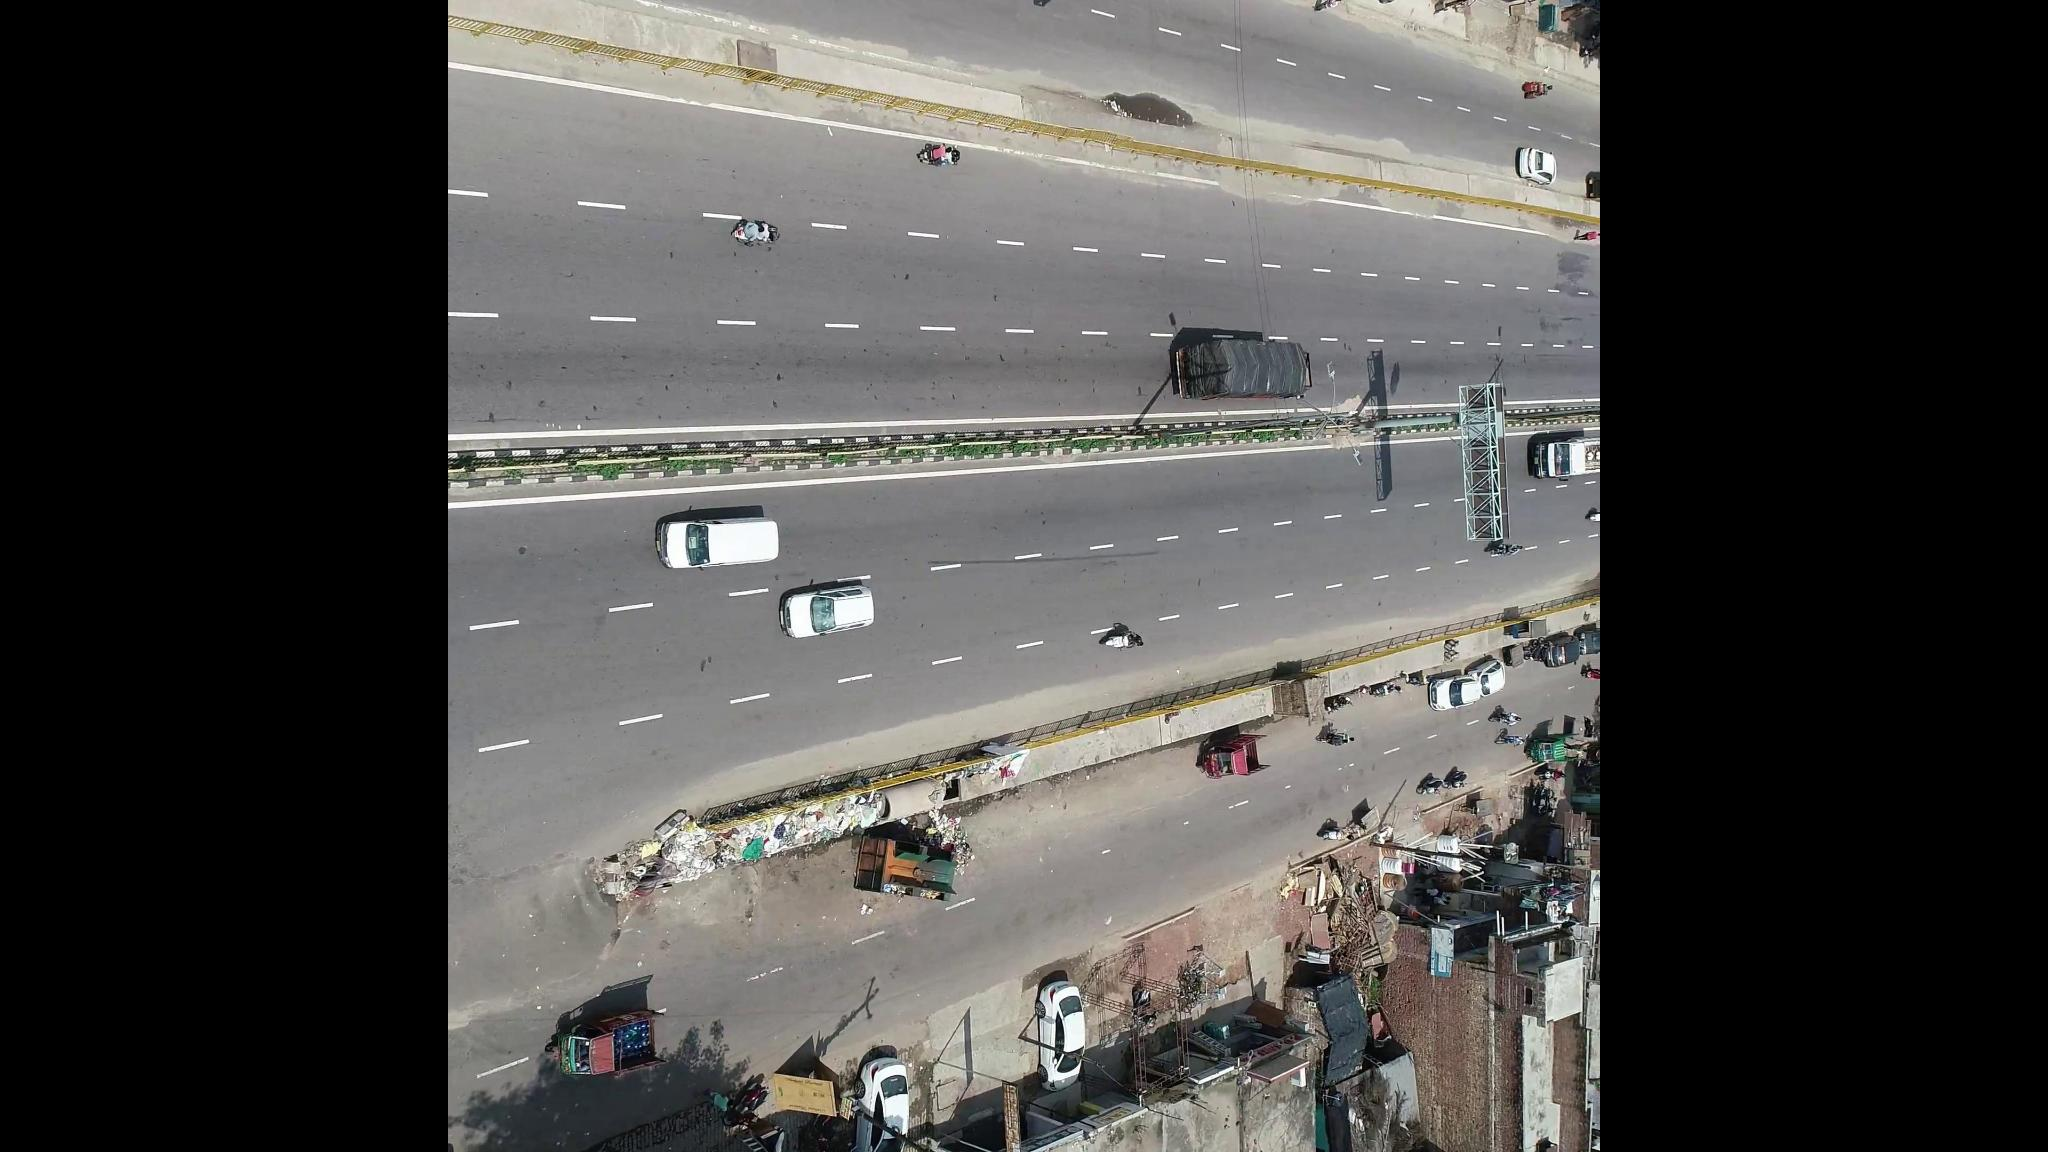Road_side_garbage: (612, 793, 862, 895)
